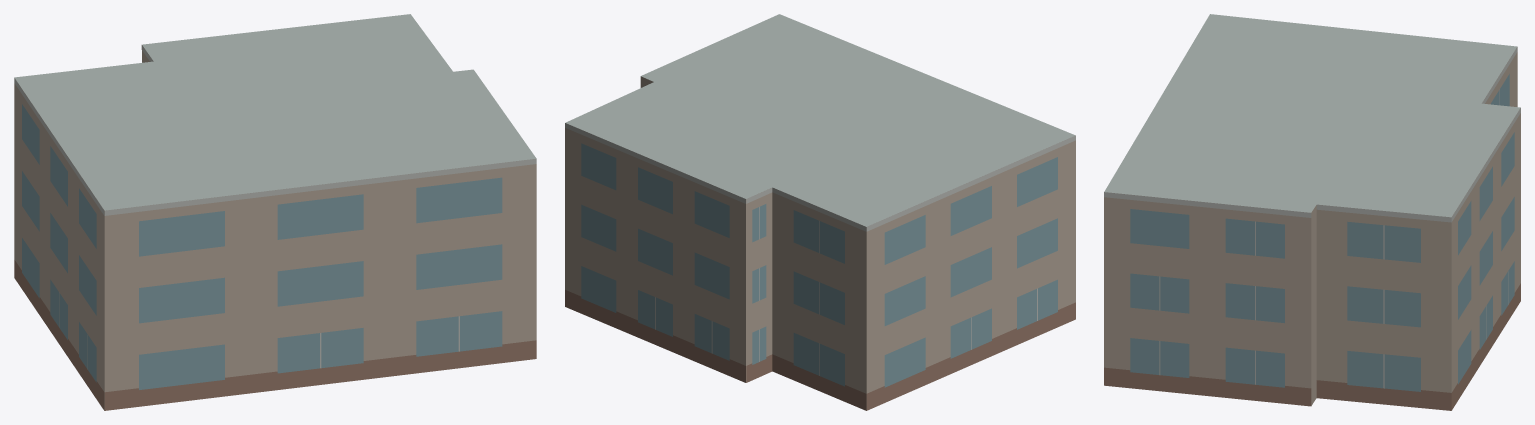
The model's file is survey-upis-32490310.glb.
The picture shows the model from 3 angles, left to right: view 1: azimuth 30°, elevation 25°; view 2: azimuth 150°, elevation 25°; view 3: azimuth 270°, elevation 25°; orthographic projection. The views are drawn at different scales.
Parts seen in each view (by area): view 1: survey-upis-32490310.tmp; view 2: survey-upis-32490310.tmp; view 3: survey-upis-32490310.tmp.
Part boxes in pixels (box(x1,y1,x2,y2)): survey-upis-32490310.tmp: box(14, 14, 536, 410); survey-upis-32490310.tmp: box(565, 14, 1075, 410); survey-upis-32490310.tmp: box(1104, 14, 1520, 410).
Size of the model in its own units: 20.62 by 9.15 by 17.86.
